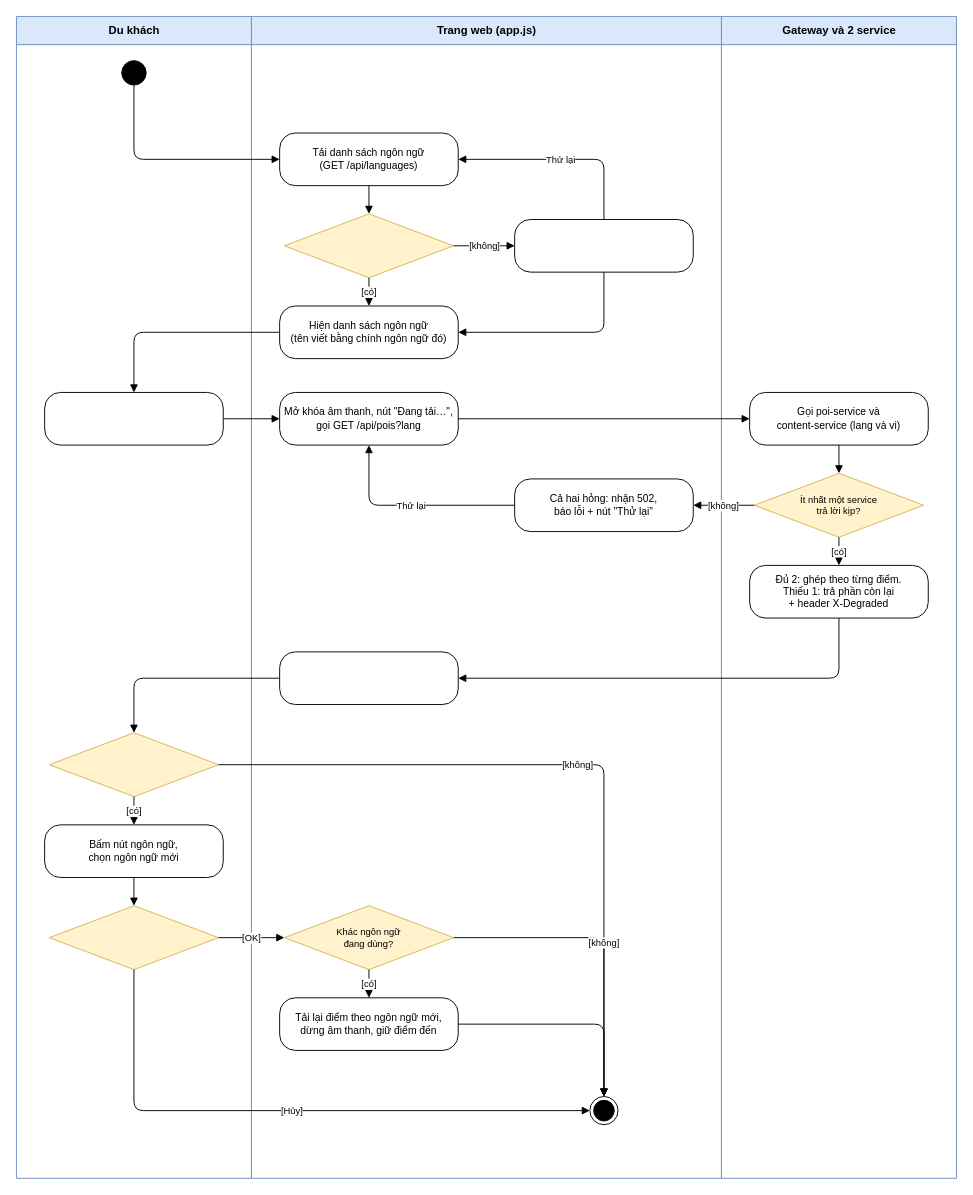
This 973x1195 diagram has some shape labels left out. The centre of each missing label's shape, as x and y in pixels:
Bấm OK?: point (133, 937)
Chọn ngôn ngữ, bấm "Bắt đầu tham quan": point (133, 418)
Muốn đổi ngôn ngữ?: point (133, 764)
Mở màn bản đồ, bắt đầu định vị; thiếu service: khung vàng + nút "Thử lại": point (368, 678)
Tạm dùng Tiếng Việt, báo lỗi + nút "Thử lại": point (603, 245)
Tải được?: point (368, 245)
